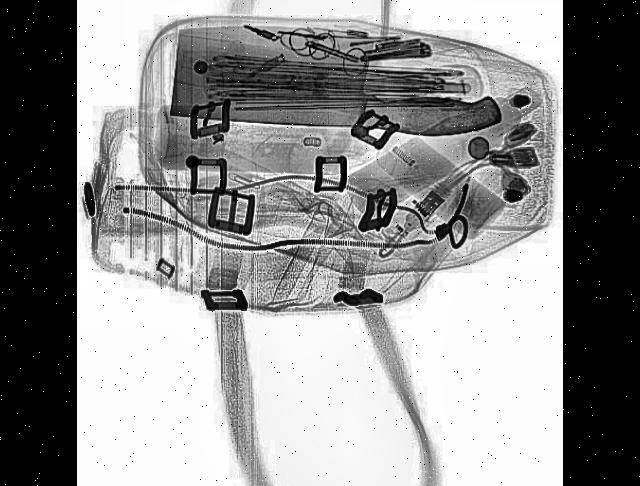Knife: (172, 19, 504, 137)
